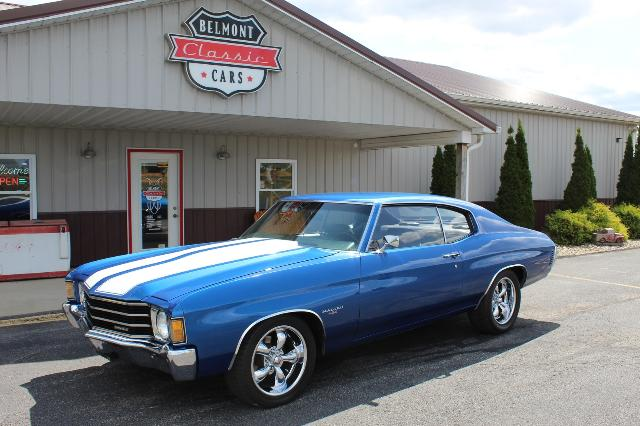chevelle-1972: (62, 193, 557, 408)
